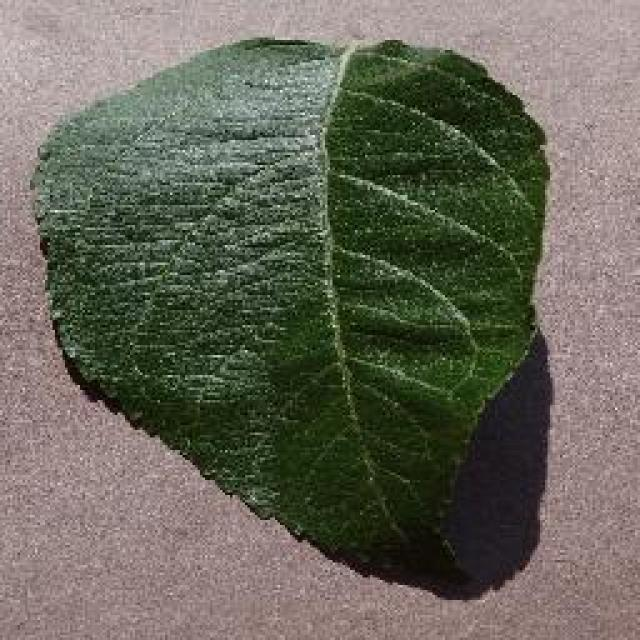apple healthy: (28, 32, 552, 580)
